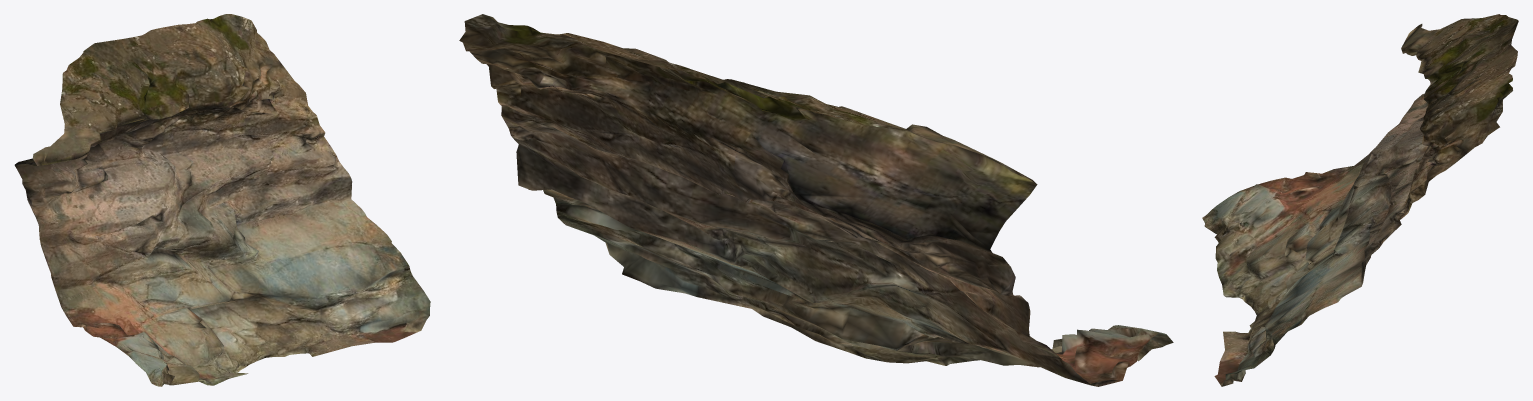
Rendered from rock-c.glb.
3 views of the same model, side by side, from view 1: azimuth 30°, elevation 25°; view 2: azimuth 150°, elevation 25°; view 3: azimuth 270°, elevation 25° (orthographic). The views are drawn at different scales.
Parts seen in each view (by area): view 1: rock_face_01; view 2: rock_face_01; view 3: rock_face_01.
Part boxes in pixels (x1=…): rock_face_01: x1=14, y1=14, x2=430, y2=386; rock_face_01: x1=459, y1=14, x2=1173, y2=386; rock_face_01: x1=1202, y1=14, x2=1518, y2=386.
Bounding box in the file's own units: 4.94 × 3.56 × 3.82.
Materials: 1 (1 with a texture image).
